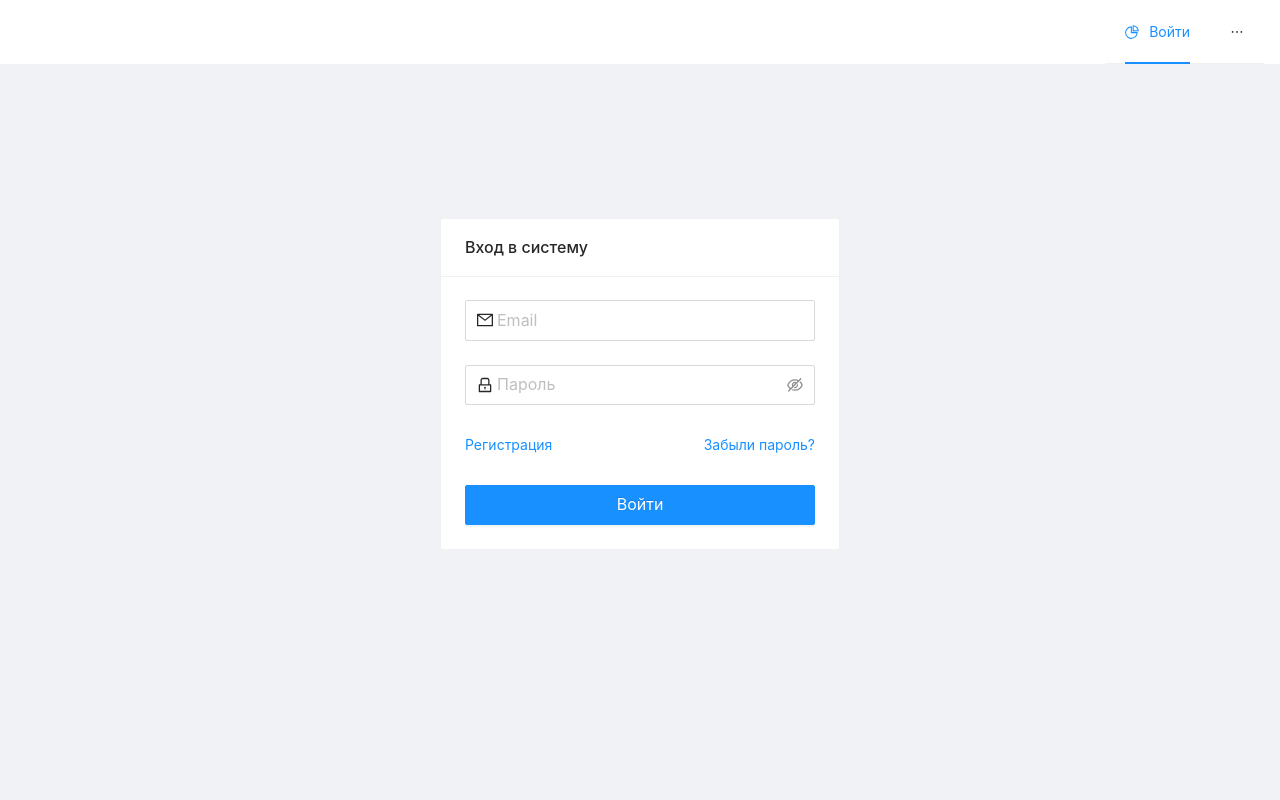
Test case: Auth › Login › Should login with correct credentials
The width and height of the screenshot is (1280, 800).
In the field with id "login_email": (650, 321) [497, 308, 803, 333], type "demo@gmail.com"
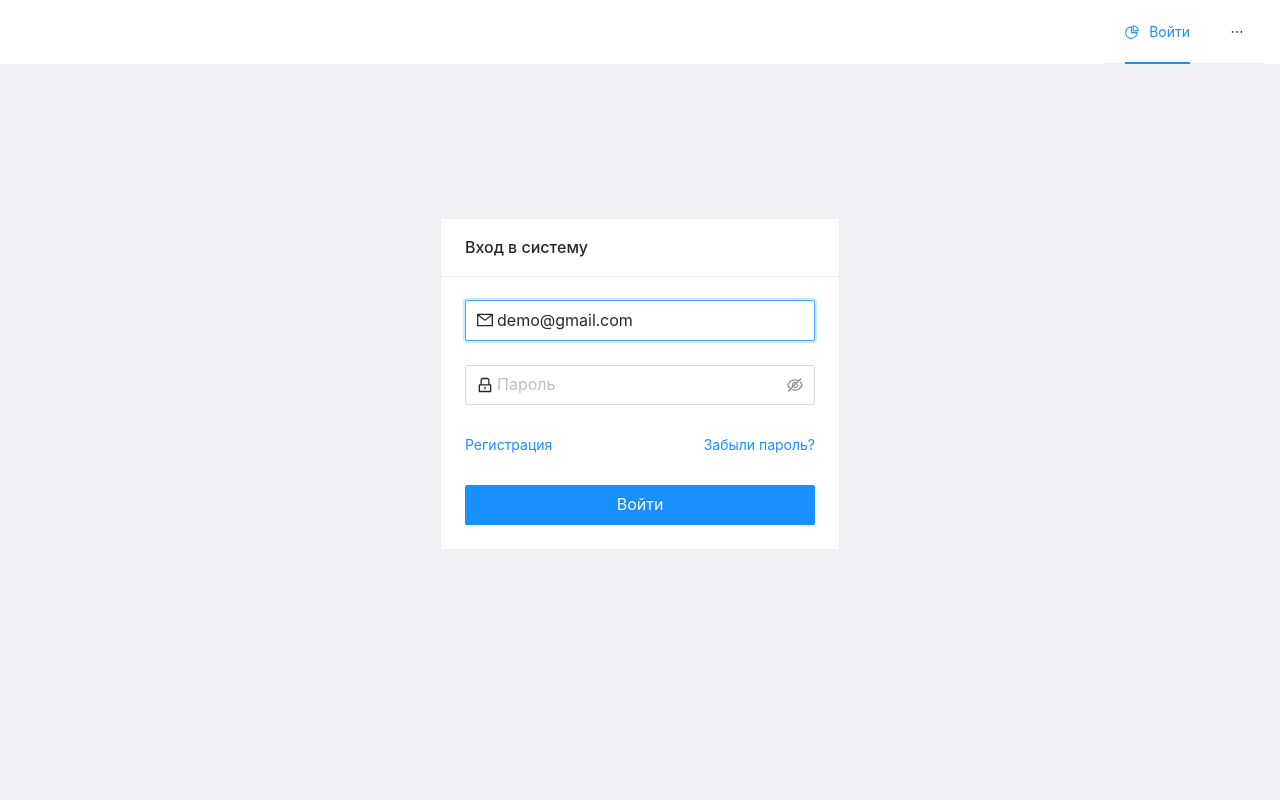
In the password field with id "login_password": (640, 385) [497, 372, 783, 397], type "1212qQ"
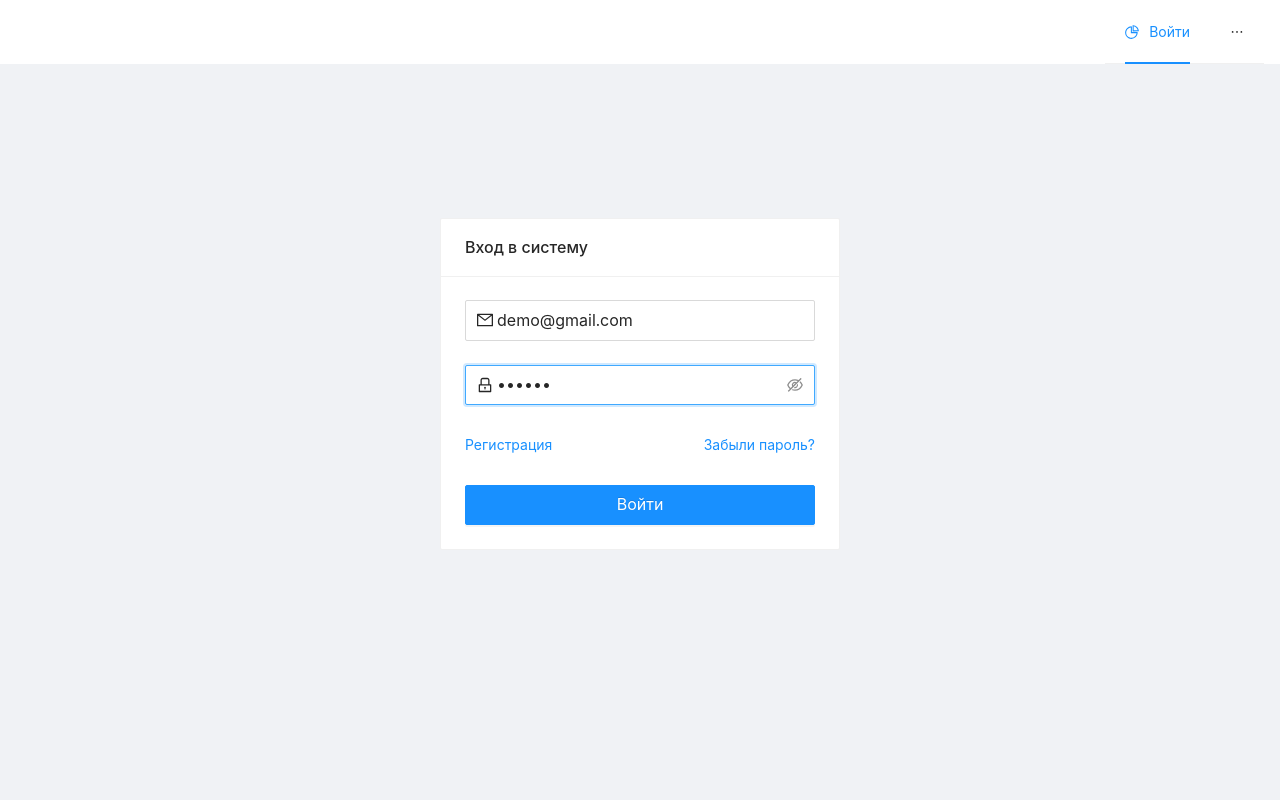
Click the submit button: (640, 505) [465, 485, 815, 525]
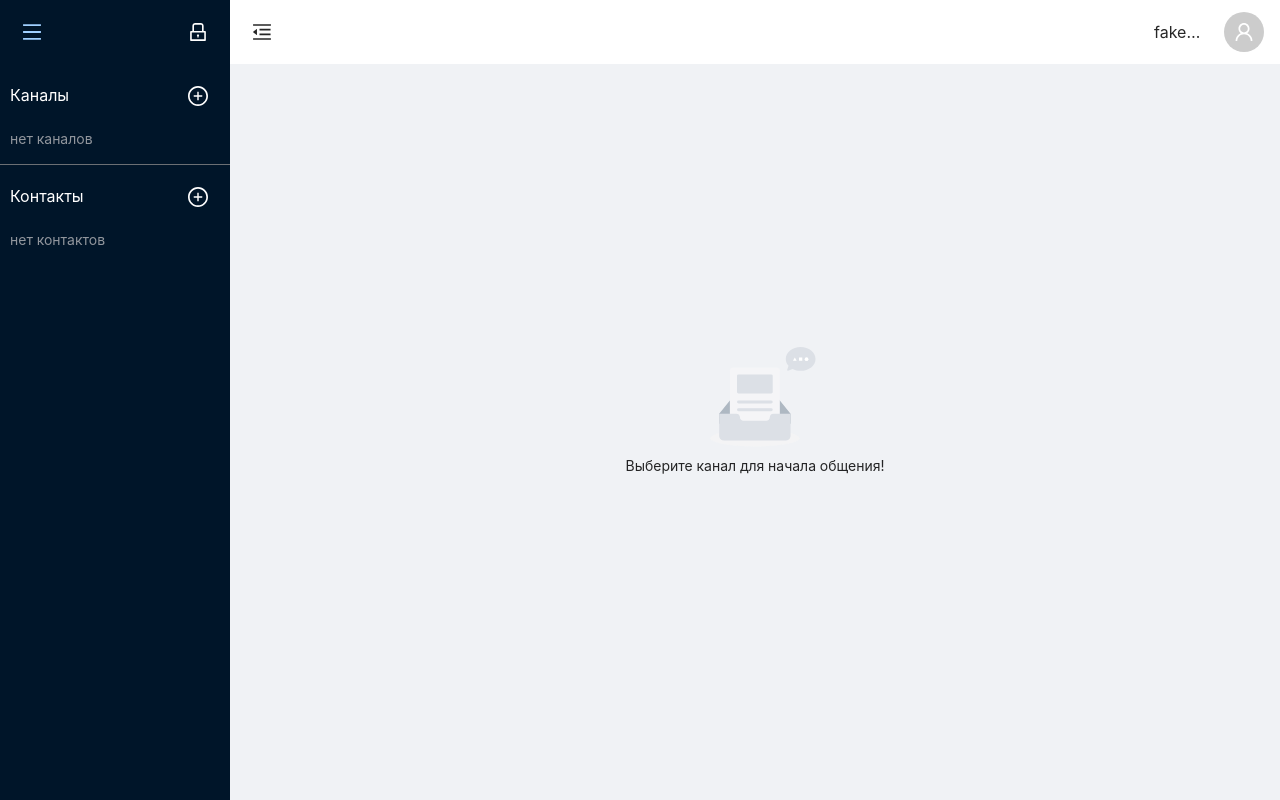
Expected: the text "Выберите канал для начала общения!" is shown, [626, 455, 884, 477]
Expected: the picture named "menu" is shown, [22, 22, 42, 42]
Expected: the picture named "lock" is shown, [188, 22, 208, 42]
